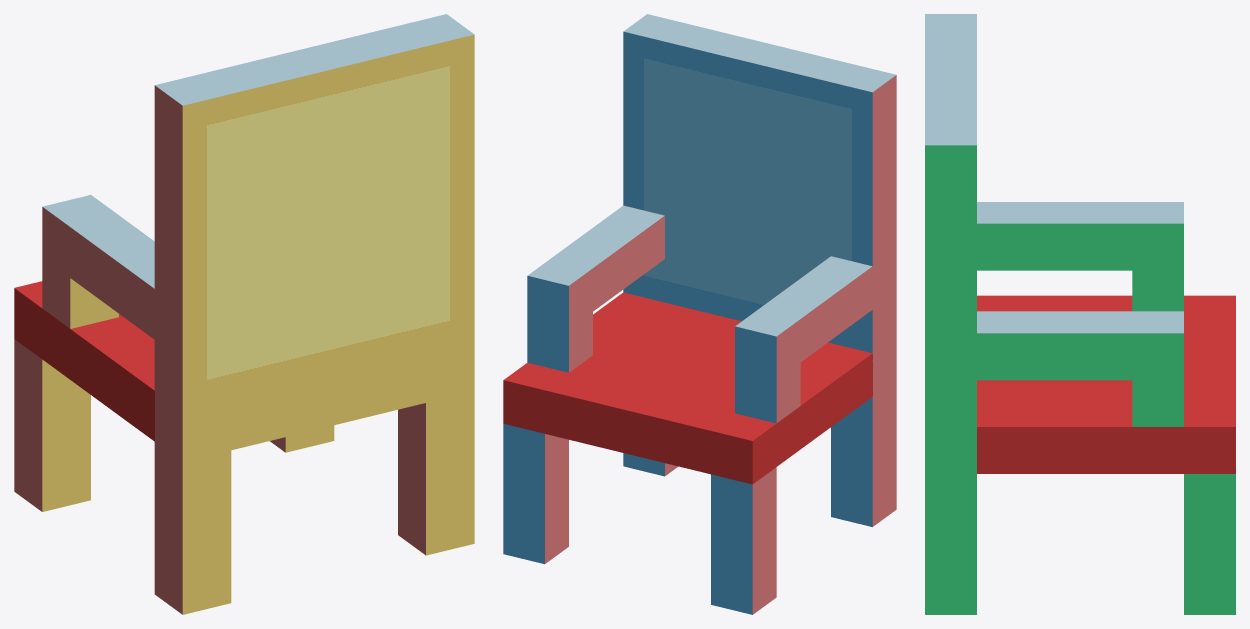
Rendered from cadeira.gltf.
The picture shows the model from 3 angles, left to right: view 1: azimuth 30°, elevation 25°; view 2: azimuth 150°, elevation 25°; view 3: azimuth 270°, elevation 25°; orthographic projection. The views are drawn at different scales.
Parts seen in each view (by area): view 1: cube (×8); view 2: cube (×10); view 3: cube (×8).
Part boxes in pixels (box(x1,y1,x2,y2)): cube (×8): box(14, 14, 474, 614); cube (×10): box(503, 14, 896, 614); cube (×8): box(925, 14, 1235, 614).
Size of the model in its own units: 0.75 by 1.25 by 0.75.
1 material, 1 textured.
